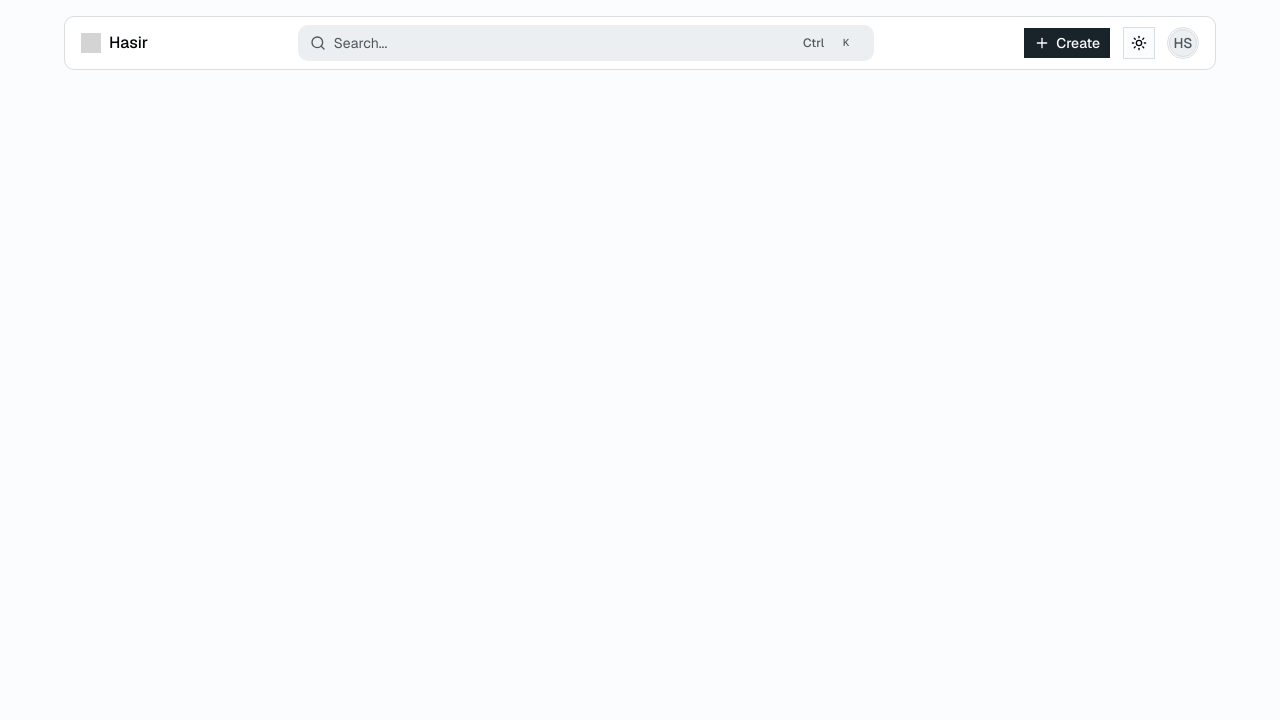
Scenario: Header › opens the create popover when the create button is clicked
Step 1. Click the button "Create" → (1067, 43), box [1023,27,1111,59]
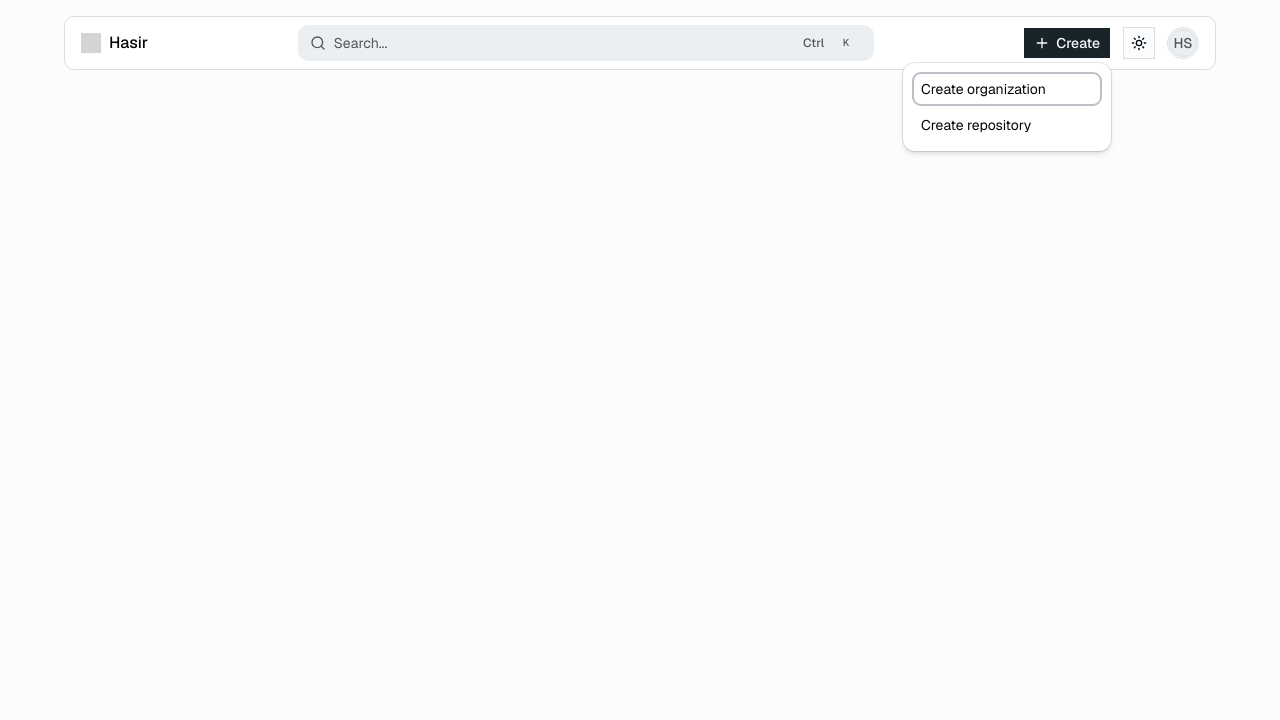
Expected: the button "Create organization" is shown, [913,73,1101,105]
Expected: the button "Create repository" is shown, [913,109,1101,141]
